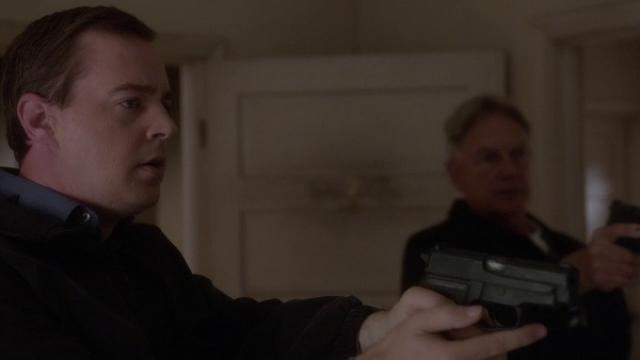handgun: (416, 239, 586, 345)
